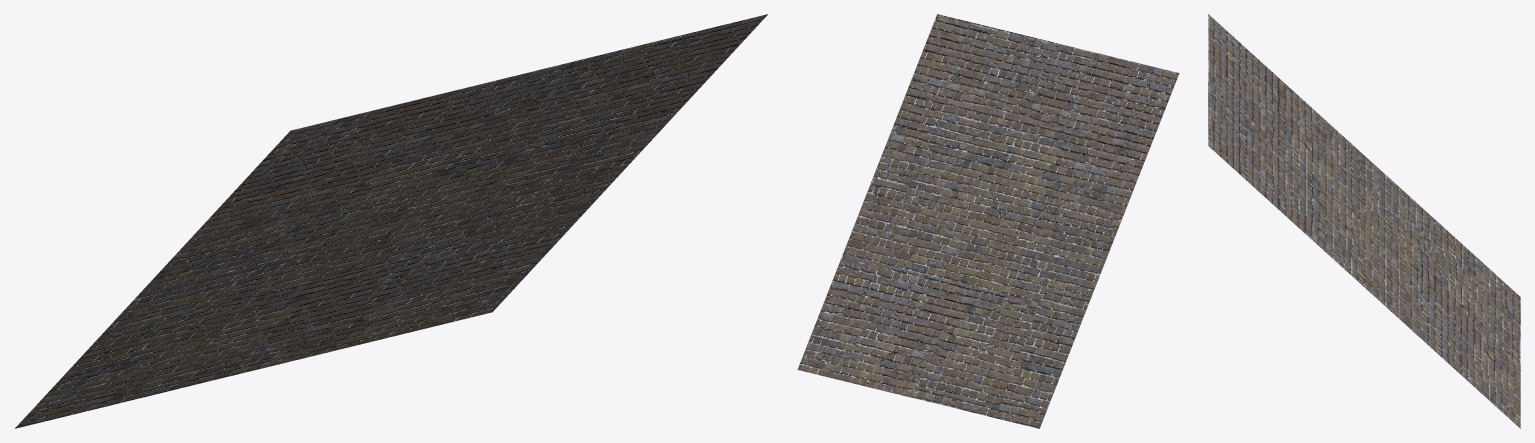
Rendered from Wall_InsetCeiling_Sloped.fbx.
3 views of the same model, side by side, from view 1: azimuth 30°, elevation 25°; view 2: azimuth 150°, elevation 25°; view 3: azimuth 270°, elevation 25° (orthographic). The views are drawn at different scales.
Parts seen in each view (by area): view 1: Ceiling_Sloped; view 2: Ceiling_Sloped; view 3: Ceiling_Sloped.
Part boxes in pixels (x1=…): Ceiling_Sloped: x1=15, y1=14, x2=767, y2=428; Ceiling_Sloped: x1=797, y1=14, x2=1179, y2=428; Ceiling_Sloped: x1=1208, y1=14, x2=1520, y2=428.
Bounding box in the file's own units: 500 × 500 × 500.
1 material, 1 textured.
